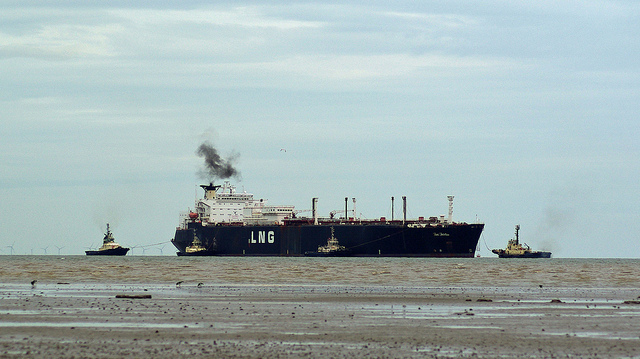LNG_ship: (175, 182, 486, 261)
tug_boat: (489, 226, 555, 256), (84, 223, 130, 260), (310, 228, 347, 261), (176, 233, 206, 257)
